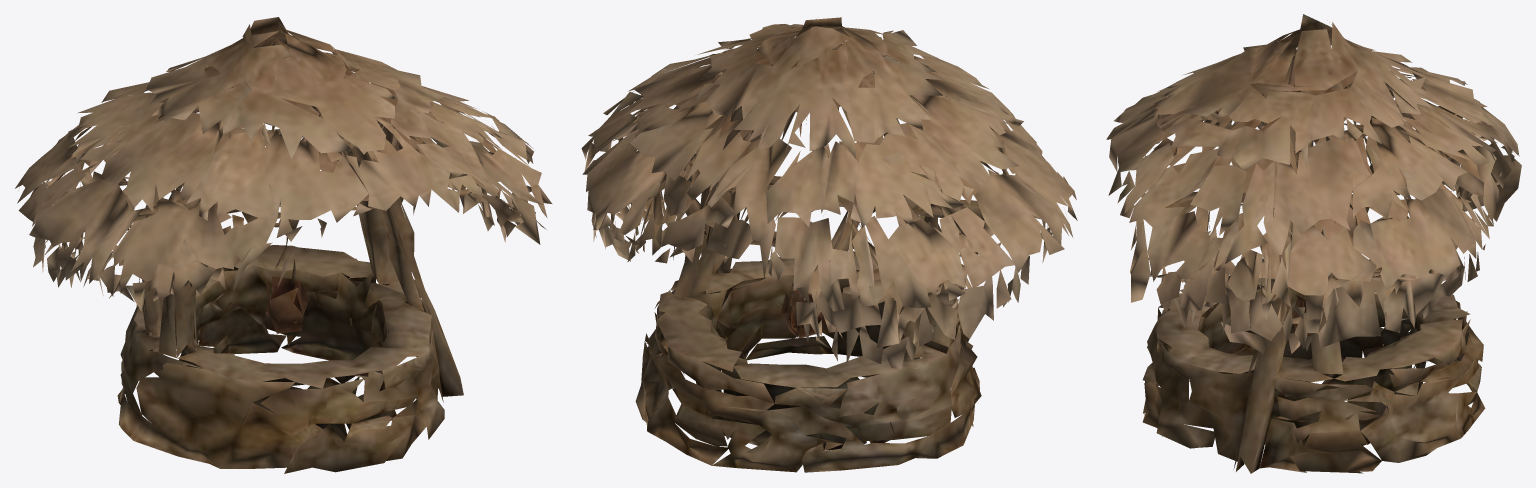
The model's file is well_far.glb.
3 renders of one model, left to right at view 1: azimuth 30°, elevation 25°; view 2: azimuth 150°, elevation 25°; view 3: azimuth 270°, elevation 25°, orthographic. The views are drawn at different scales.
Visible parts, largest first — view 1: model; view 2: model; view 3: model.
Boxes of the visible parts, x1,y1,x2,y2 form: model: (15,17,552,473); model: (581,17,1077,472); model: (1106,14,1521,473).
Bounding box in the file's own units: 0.9928 × 0.7891 × 0.7828.
1 material, 1 textured.
